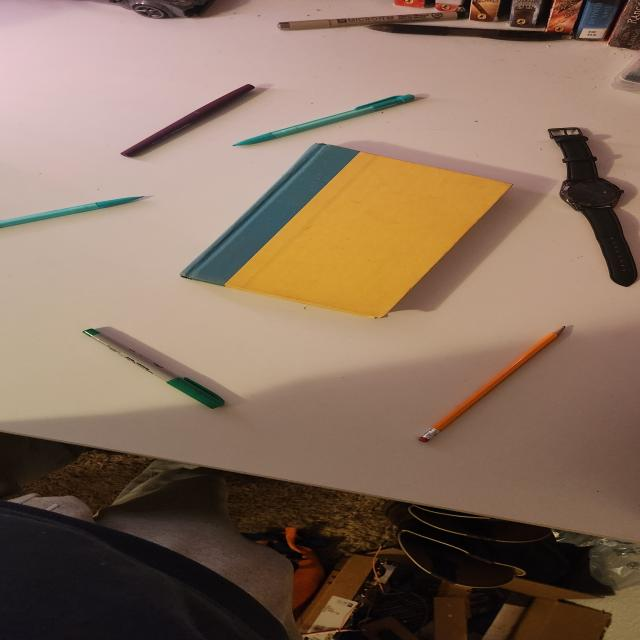Book: (179, 144, 512, 320)
Pen: (82, 327, 232, 411), (234, 94, 425, 149), (121, 85, 262, 157), (0, 195, 142, 235)
Pencil: (418, 328, 571, 443)
Watch: (551, 128, 640, 287)
